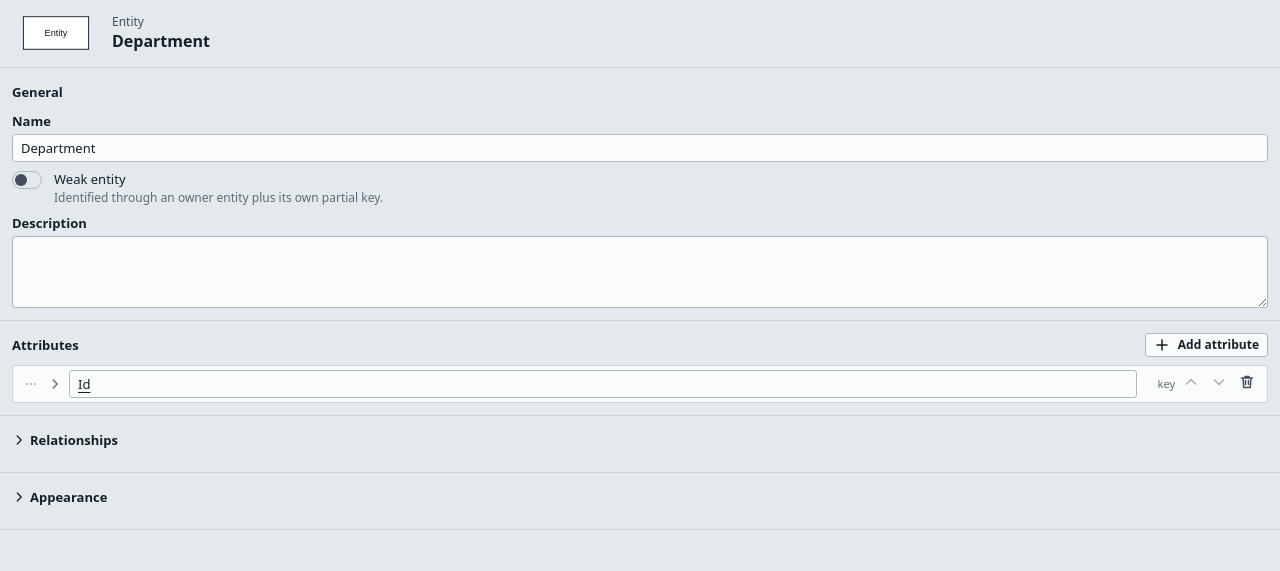
entity panel › toggles weak and explains the missing identifying relationship
Expected: the text "No identifying relationship yet" is not shown
Click the switch named "Weak entity": coordinates (27, 180) x1=12 y1=171 x2=42 y2=189
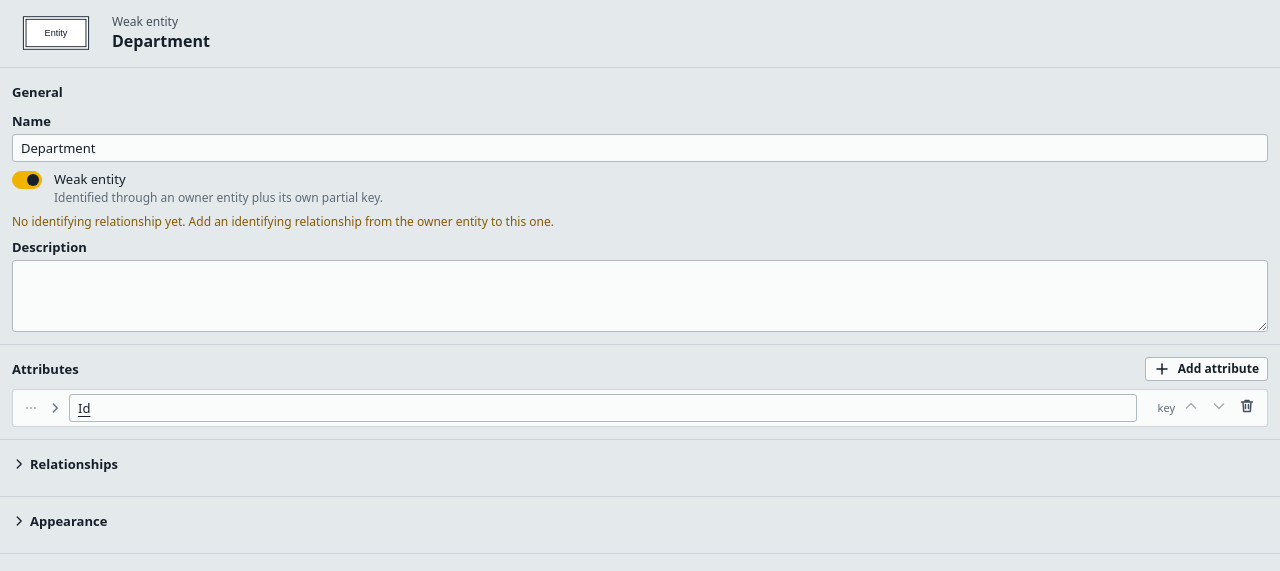
Result: the text "No identifying relationship yet" is shown at x1=12 y1=213 x2=554 y2=230
